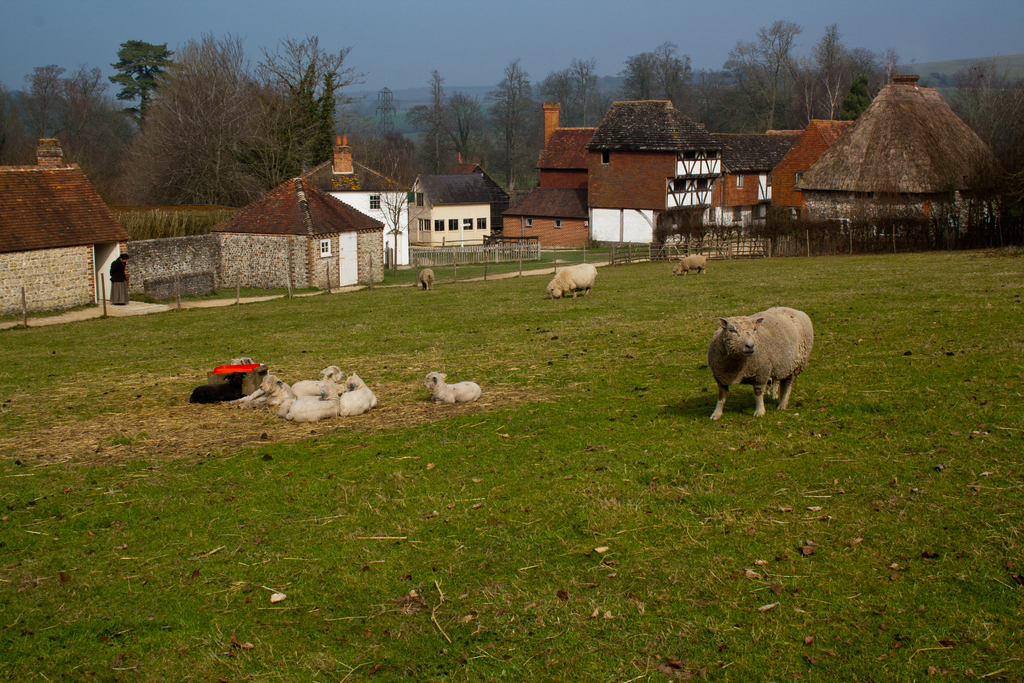sheep: (702, 297, 826, 428), (545, 265, 602, 300), (421, 370, 482, 401), (671, 253, 704, 272), (418, 268, 435, 290)
